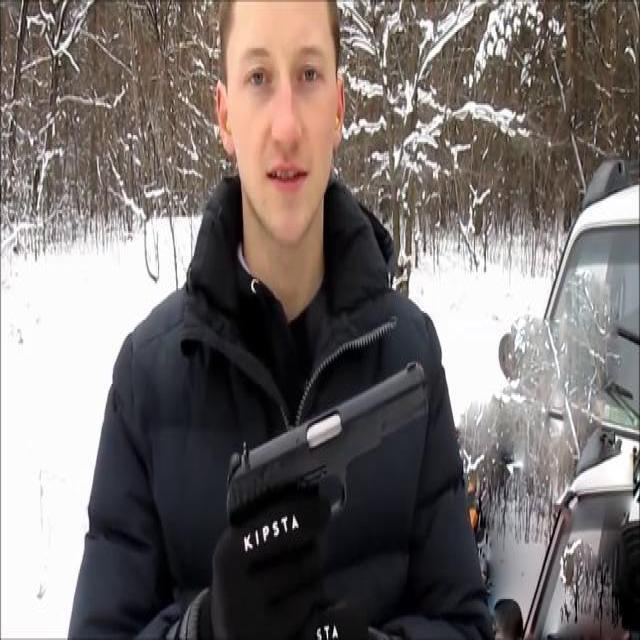pistol: (224, 352, 428, 567)
